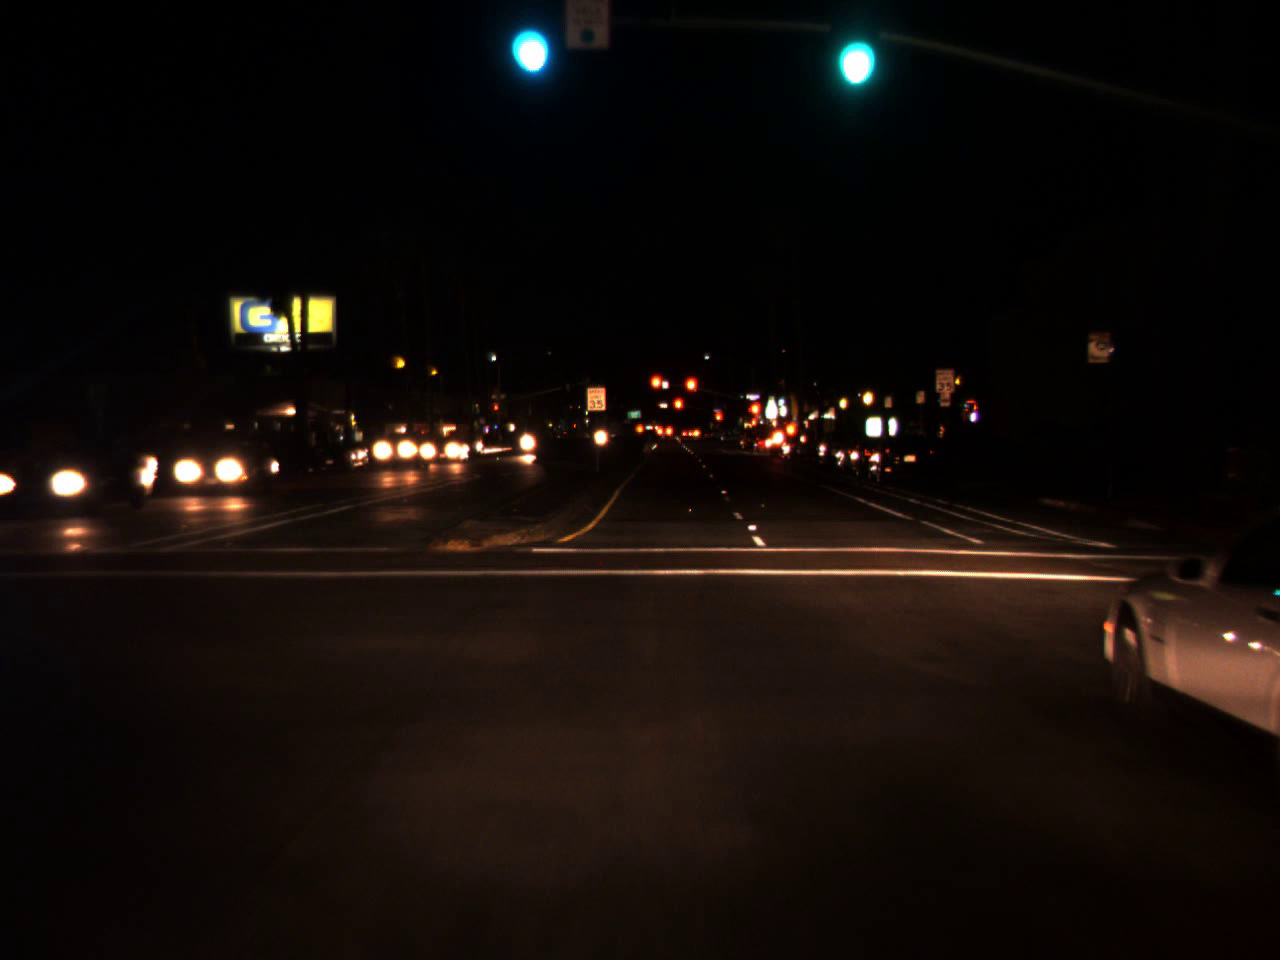go: (832, 7, 875, 94), (508, 0, 551, 84)
stop: (746, 398, 762, 438), (649, 373, 664, 405), (673, 395, 685, 422), (714, 410, 723, 431), (686, 379, 695, 397), (493, 405, 499, 415)
